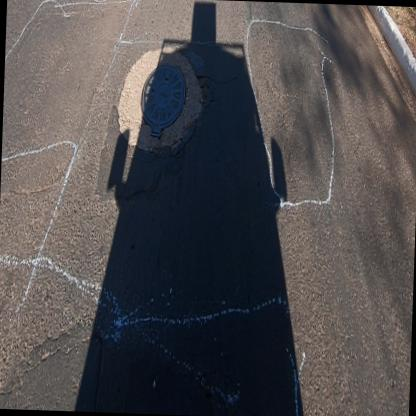manholes: (137, 56, 194, 148)
